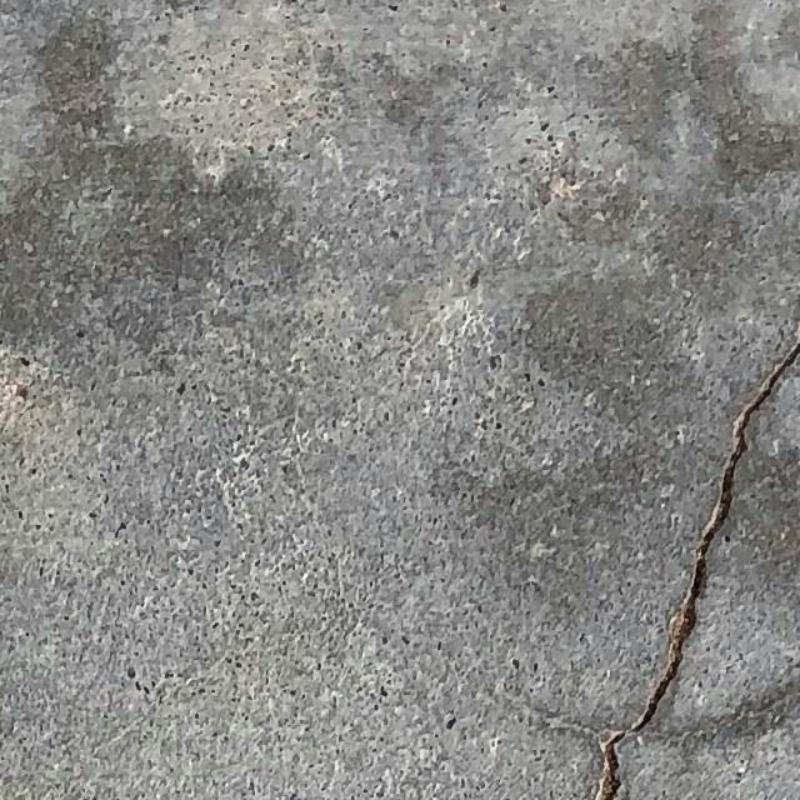pothole: (595, 336, 800, 799)
